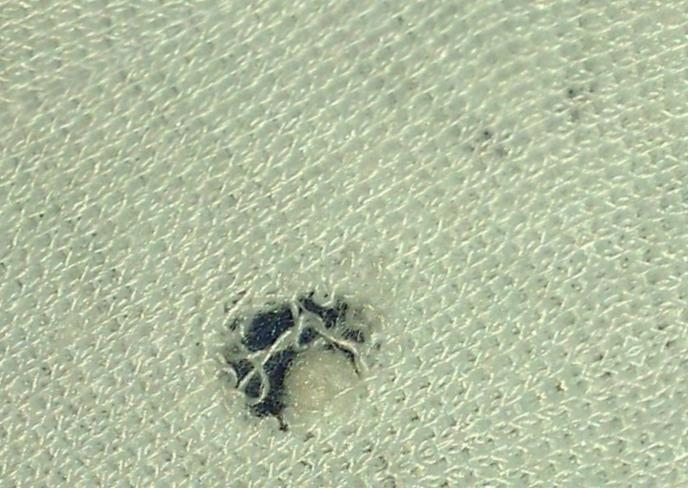hole: (256, 322, 371, 445)
